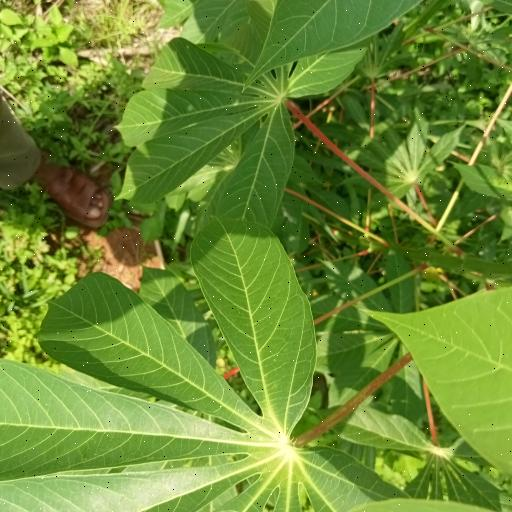Cassava_Healthy: (0, 225, 324, 512), (116, 0, 375, 225)
